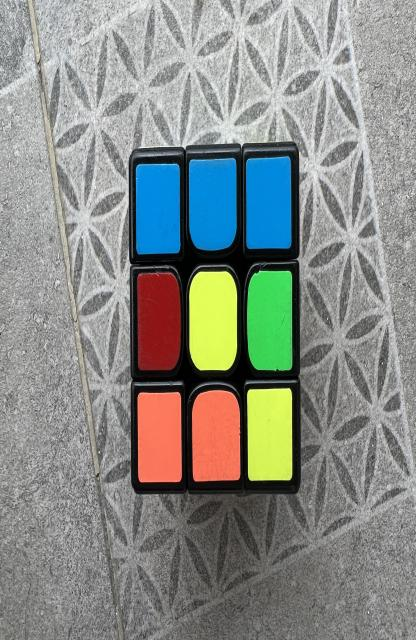Blue: (188, 158, 236, 250), (246, 157, 292, 248), (136, 163, 180, 255)
Green: (247, 270, 292, 370)
Orange: (192, 390, 240, 482), (137, 393, 182, 484)
Red: (137, 272, 180, 370)
Yellow: (189, 272, 237, 370), (247, 388, 292, 482)
